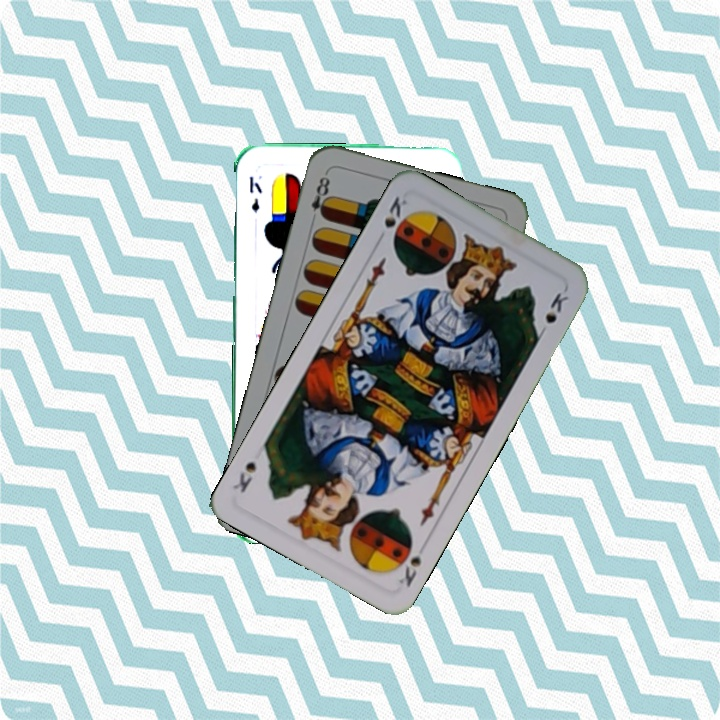E8: (307, 168, 333, 222)
EK: (245, 173, 265, 216)
SK: (395, 537, 430, 590), (380, 192, 410, 231)
